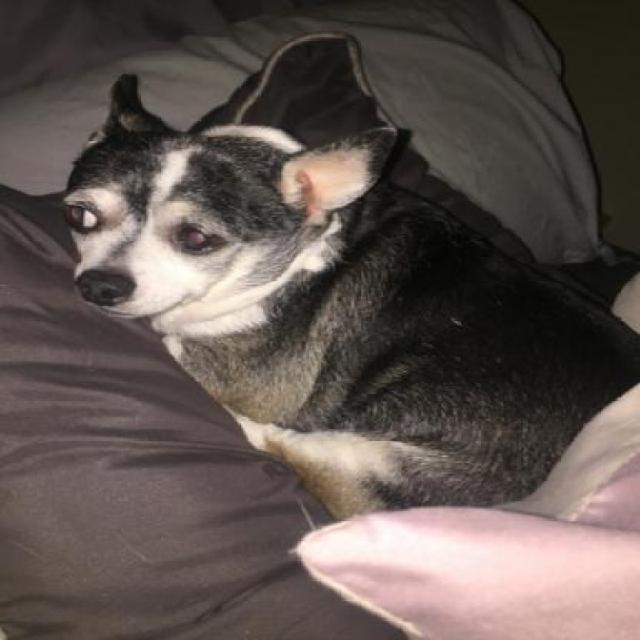Dog: (61, 74, 638, 521)
